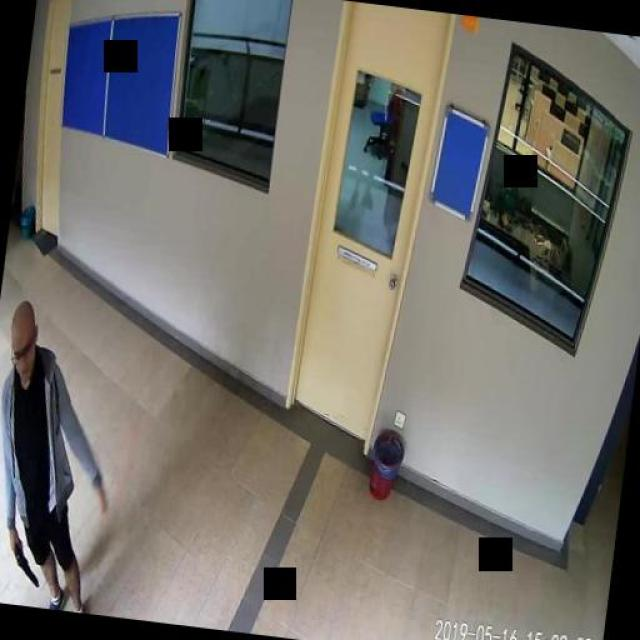gun: (6, 533, 44, 585)
